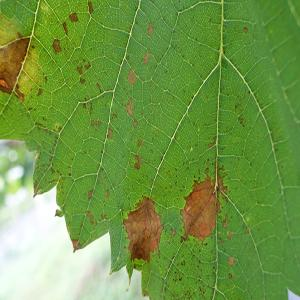Folha: (0, 0, 299, 299)
Fungo: (122, 196, 164, 267), (179, 168, 217, 242), (0, 34, 30, 102), (76, 58, 91, 84), (125, 97, 134, 117), (126, 68, 136, 85), (52, 38, 61, 55), (134, 154, 142, 169), (146, 22, 154, 36), (86, 210, 94, 224), (68, 12, 78, 22), (222, 212, 228, 228), (143, 51, 150, 64), (62, 21, 68, 35), (88, 0, 94, 14), (96, 82, 102, 93), (228, 255, 234, 266), (107, 128, 112, 140), (87, 189, 93, 199), (227, 228, 233, 238), (76, 64, 82, 74), (170, 227, 176, 237), (79, 76, 85, 84), (106, 189, 110, 199), (240, 117, 244, 127), (37, 88, 42, 96), (112, 112, 118, 118), (133, 118, 137, 126), (90, 118, 94, 126), (244, 26, 248, 33), (137, 139, 141, 146), (97, 119, 101, 126), (228, 273, 232, 278)
